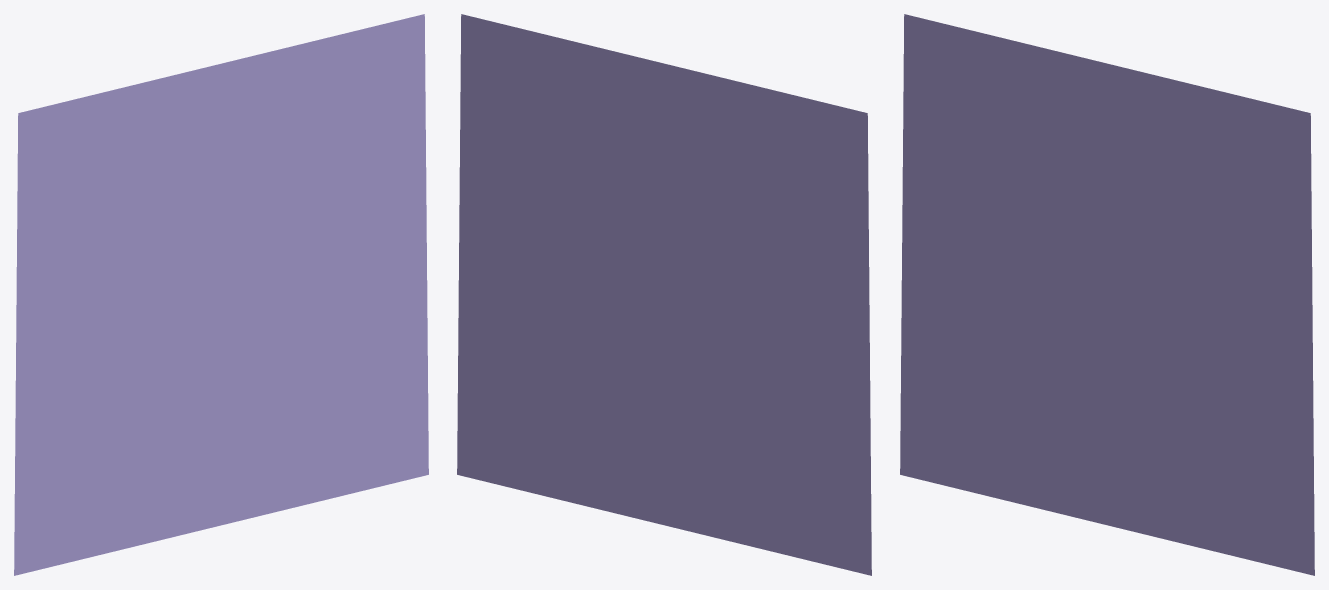
3 views of the same model, side by side, from view 1: azimuth 30°, elevation 25°; view 2: azimuth 150°, elevation 25°; view 3: azimuth 330°, elevation 25° (orthographic).
Parts seen in each view (by area): view 1: Object77; view 2: Object77; view 3: Object77.
Part boxes in pixels (x1,y1,x2,y2): Object77: (14, 14, 428, 575); Object77: (457, 14, 871, 575); Object77: (900, 14, 1314, 575).
Size of the model in its own units: 1880 by 2000 by 0.0002.
